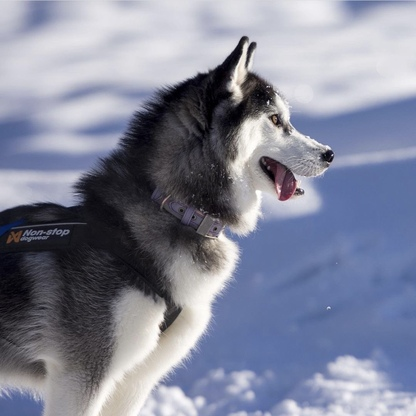husky: (1, 31, 342, 416)
